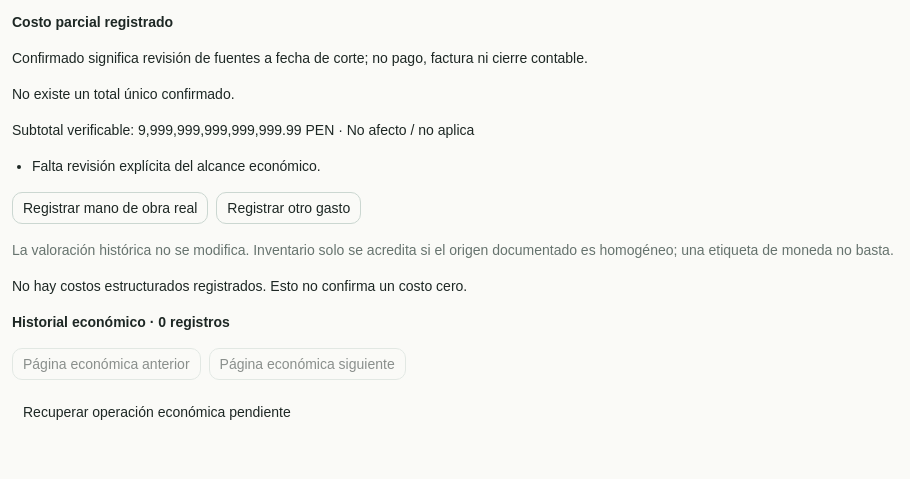
Scenario: R14 sección económica › recuperar sin pendiente no abre una nueva operación ni envía
Click the button "Recuperar operación económica pendiente": (157, 412) [12,396,302,428]
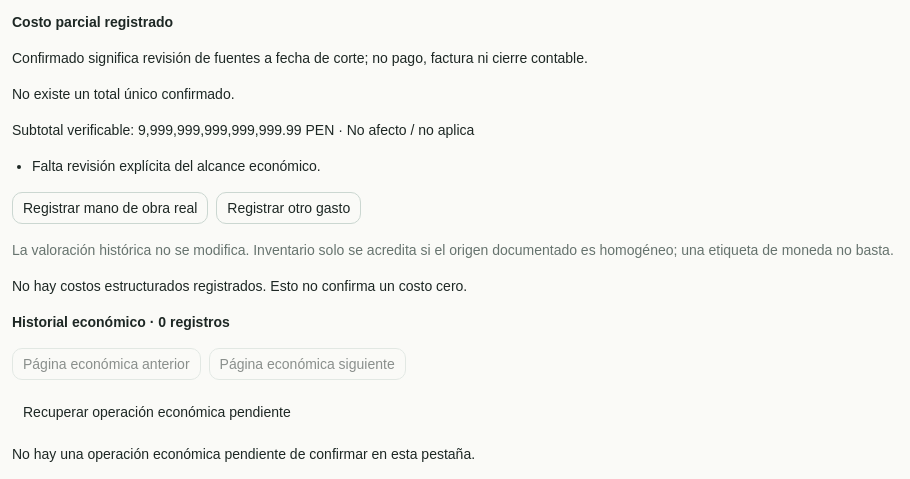
Expected: the text "No hay una operación económica pendiente de confirmar en esta pestaña." is shown, [12,446,475,462]
